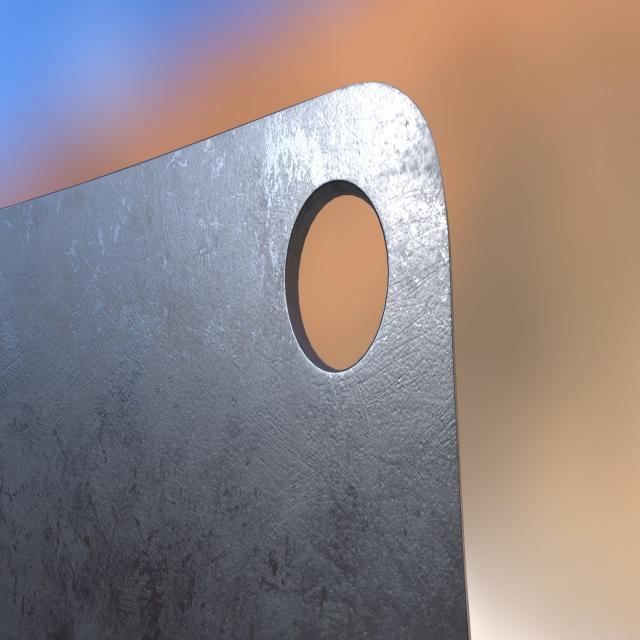cleaver: (0, 81, 465, 640)
